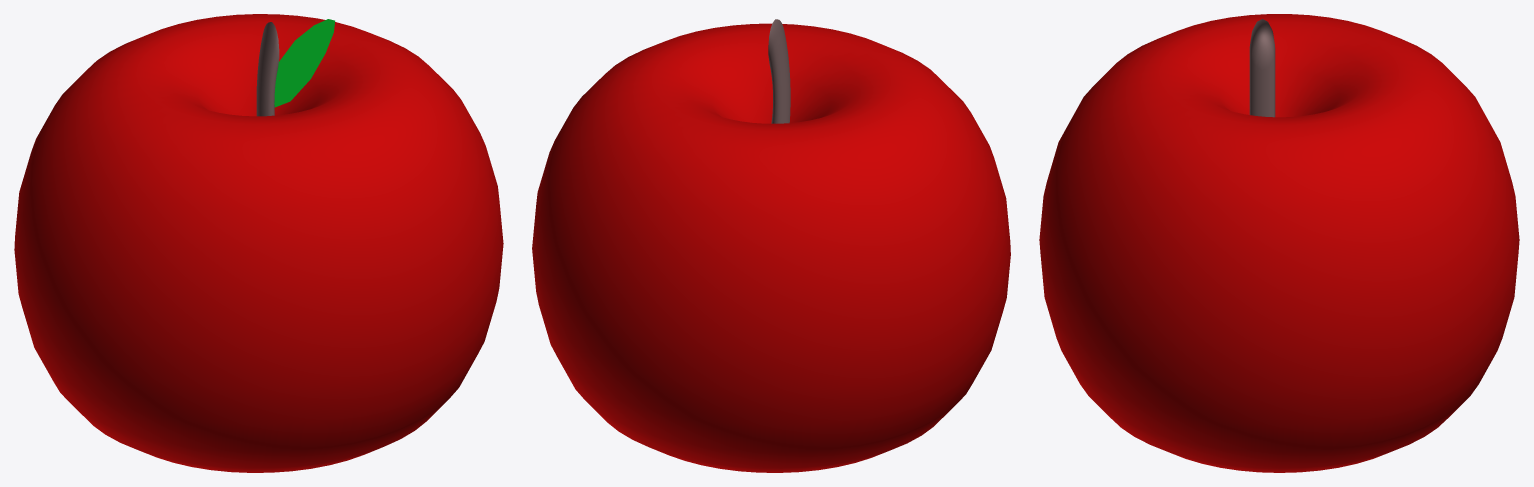
File: asset.glb
3 views of the same model, side by side, from view 1: azimuth 30°, elevation 25°; view 2: azimuth 150°, elevation 25°; view 3: azimuth 270°, elevation 25° (orthographic). The views are drawn at different scales.
Visible parts, largest first — view 1: Torus, Circle, Capsule; view 2: Torus, Capsule; view 3: Torus, Capsule.
Boxes of the visible parts, x1,y1,x2,y2 form: Torus: (14,14,503,472); Circle: (274,19,335,107); Capsule: (256,22,279,116); Torus: (532,23,1010,472); Capsule: (768,19,790,123); Torus: (1039,14,1519,472); Capsule: (1249,19,1275,117).
Bounding box in the file's own units: 1.6 × 1.43 × 1.57.
